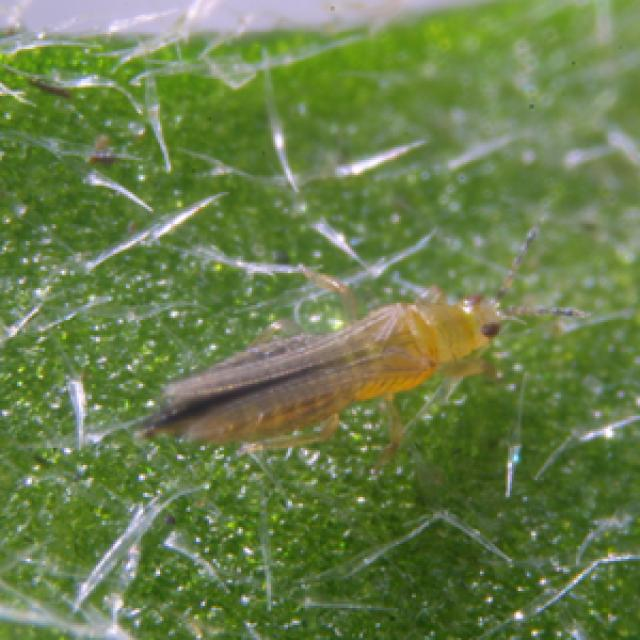Thrip-Adult-: (62, 221, 583, 481)
